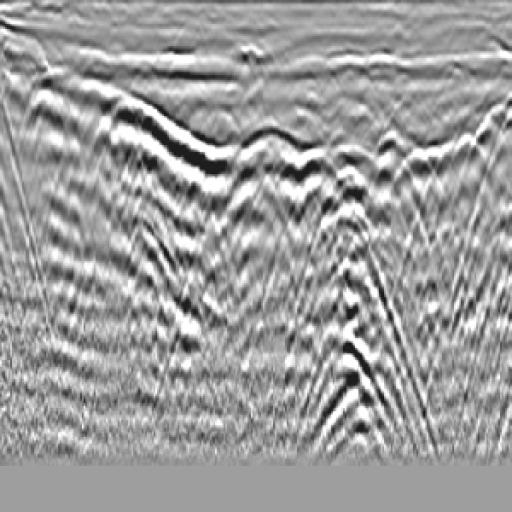metalic: (183, 105, 339, 294)
